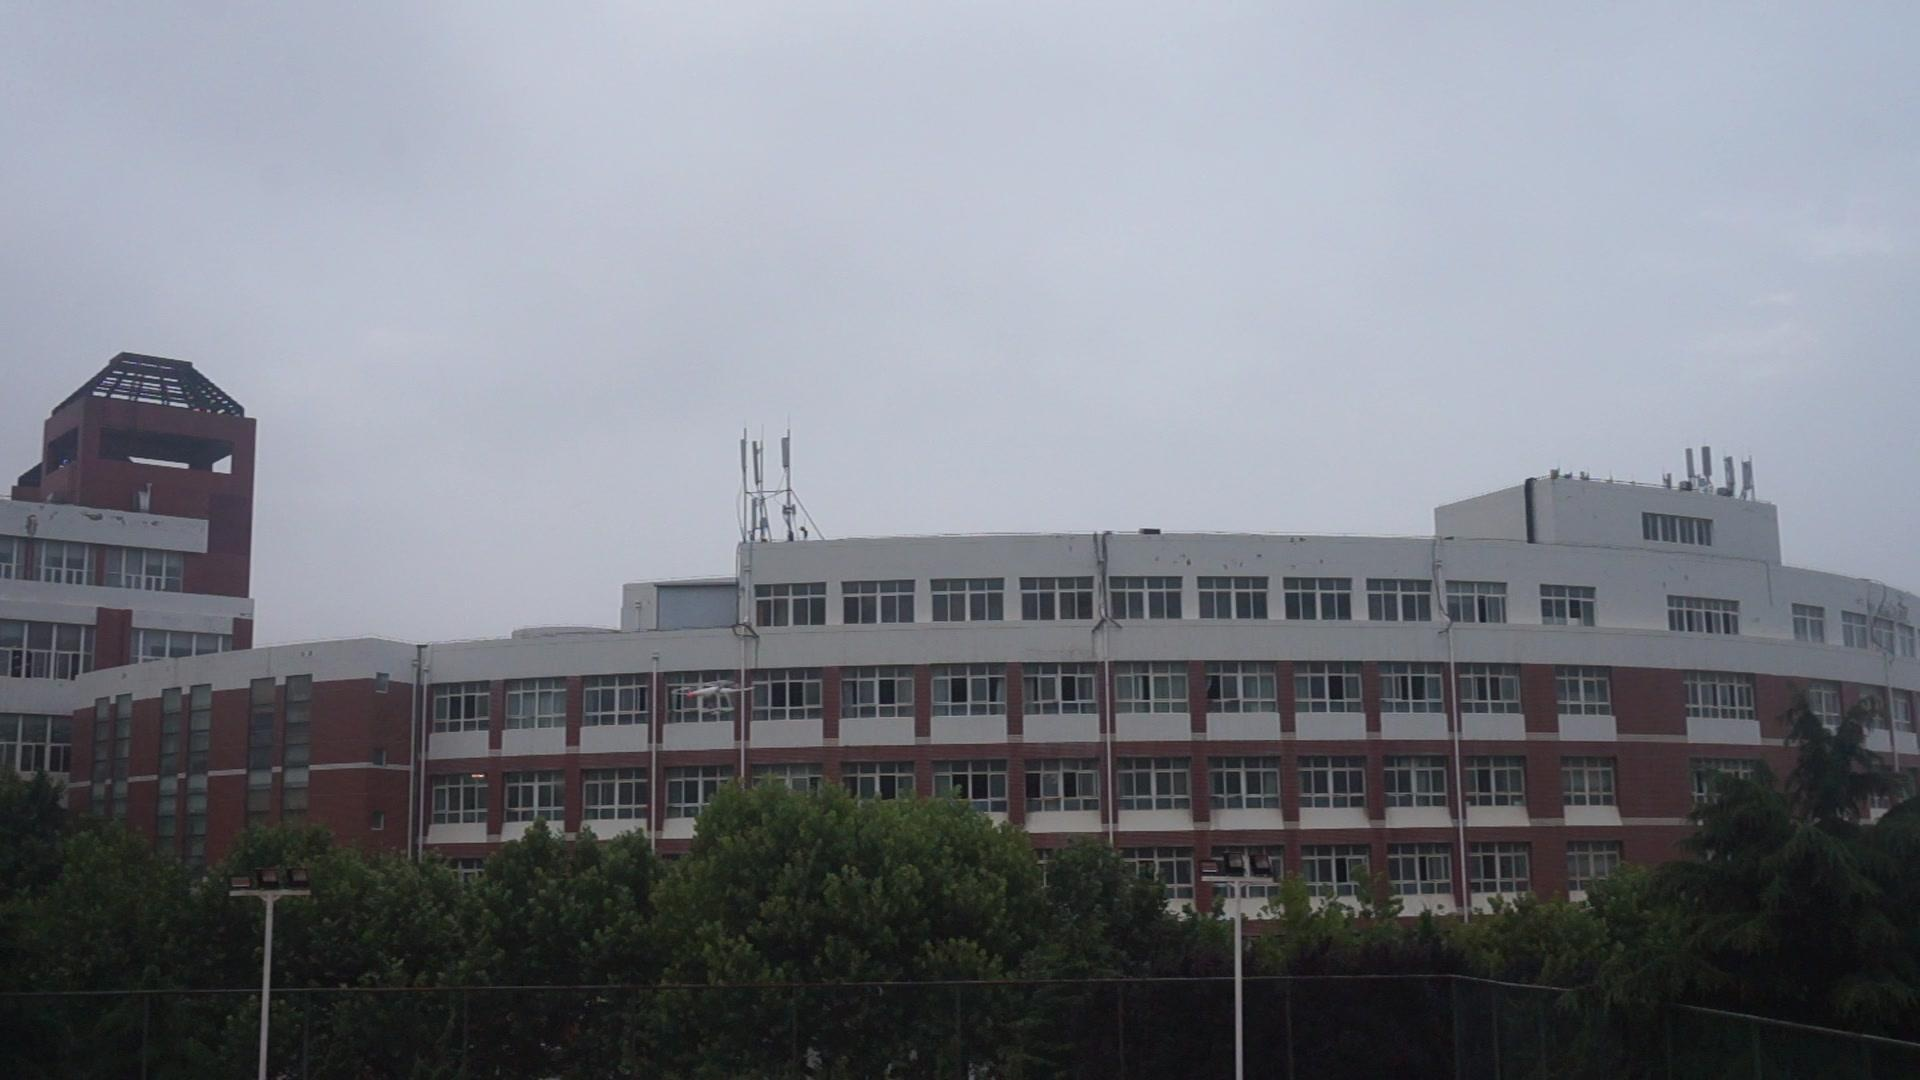UAV: (673, 680, 754, 715)
